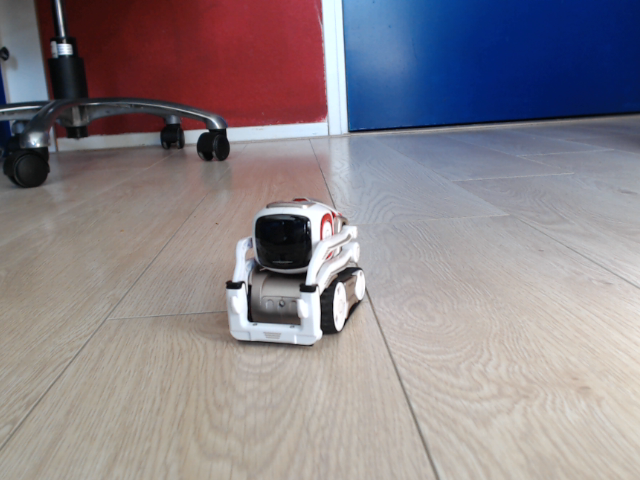cozmo: (223, 194, 371, 350)
